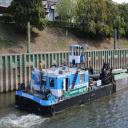tugboat: (14, 45, 119, 120)
